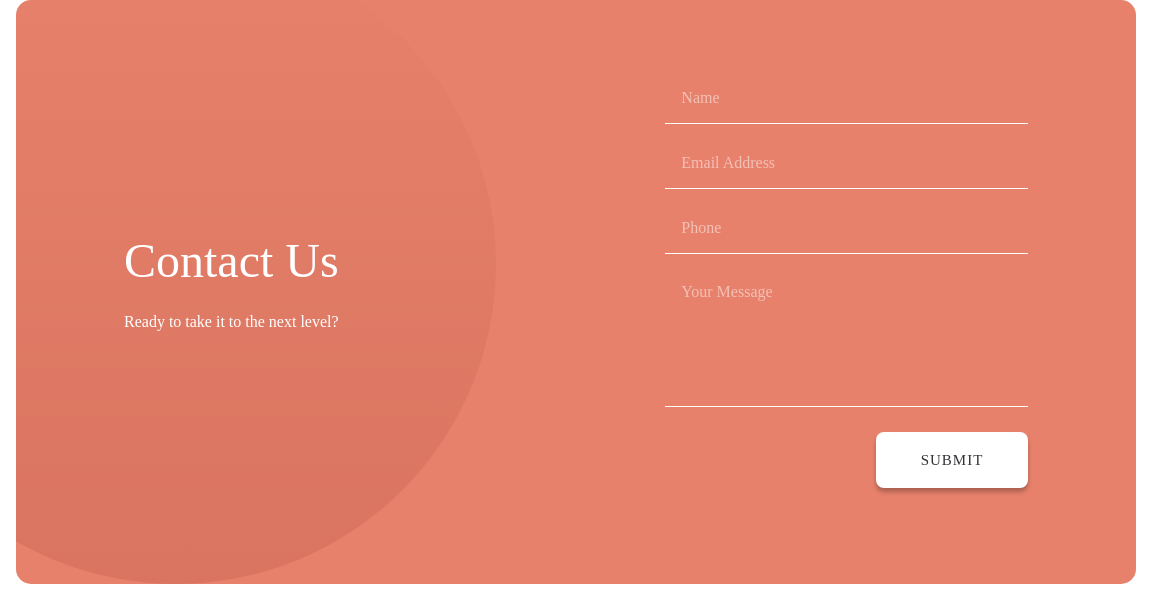
Test: ContactForm › rejects an invalid email address
Type "Ada Lovelace" into the field labelled "Name". click: (847, 104)
box: [665,84,1028,124]
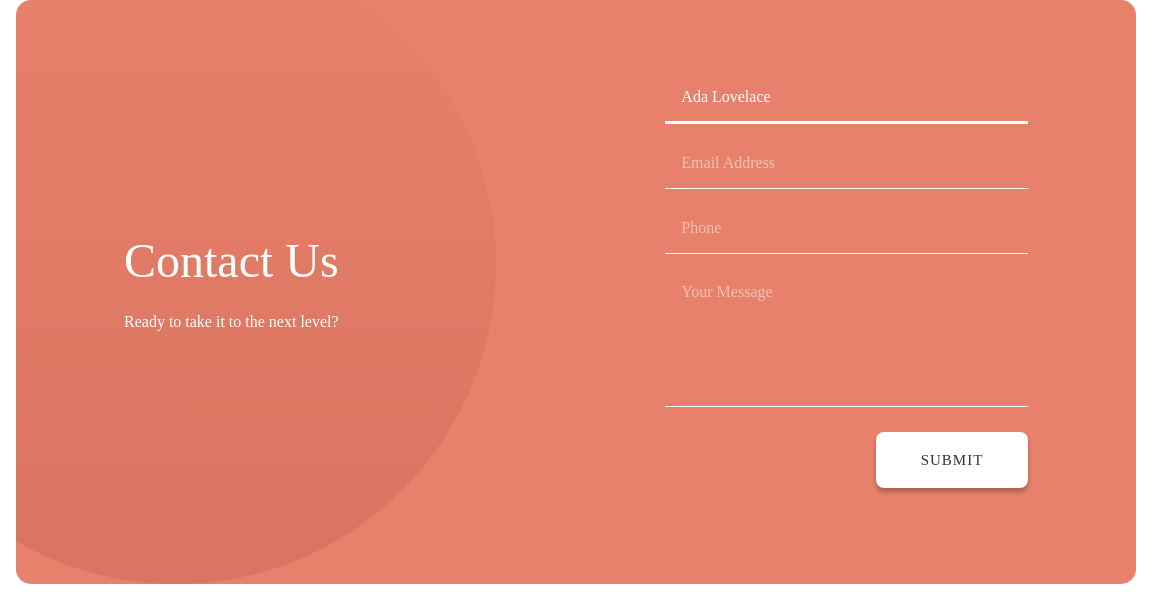
Type "ada@" into the field labelled "Email Address". click: (847, 169)
box: [665,149,1028,189]
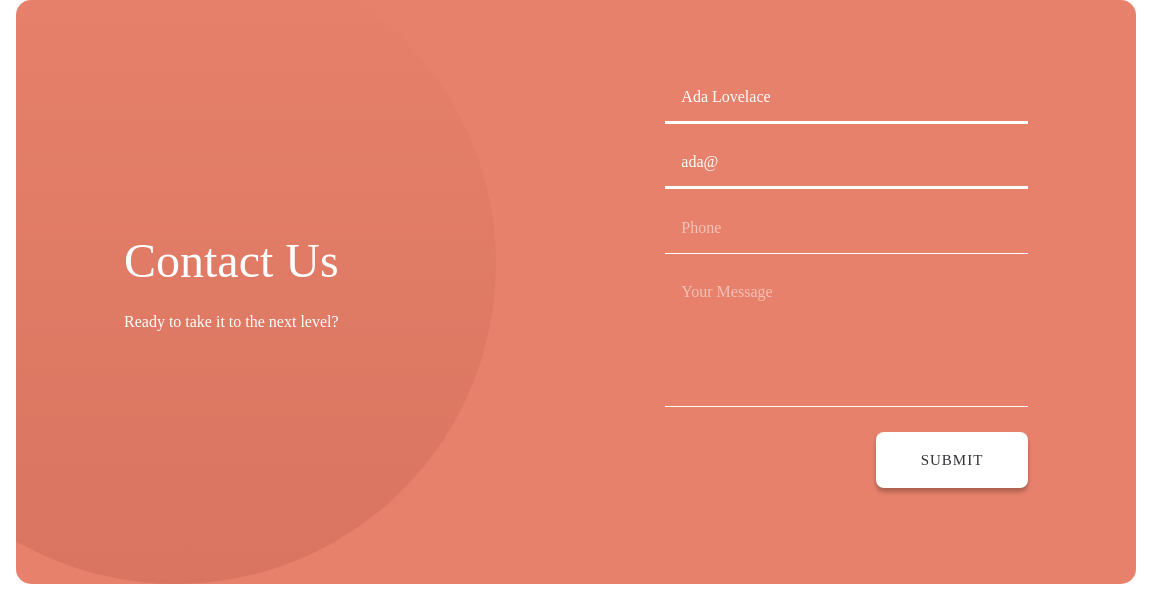
Type "+44 20 7946 0958" into the field labelled "Phone". click: (847, 234)
box: [665,214,1028,254]
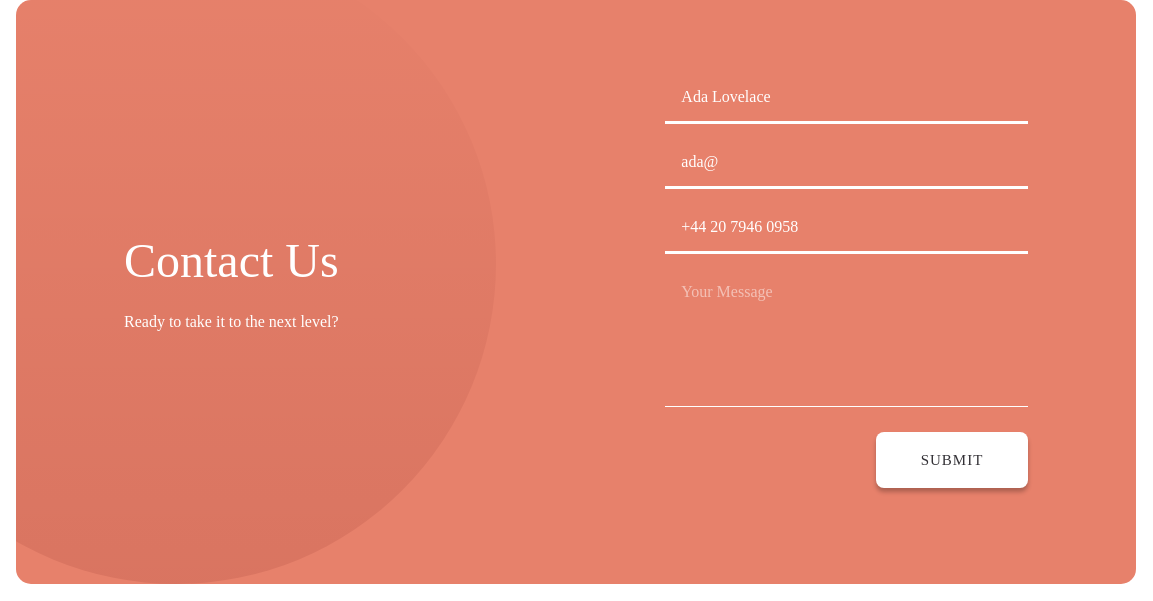
Type "Hello" into the text box labelled "Your Message". click: (847, 343)
box: [665,279,1028,407]
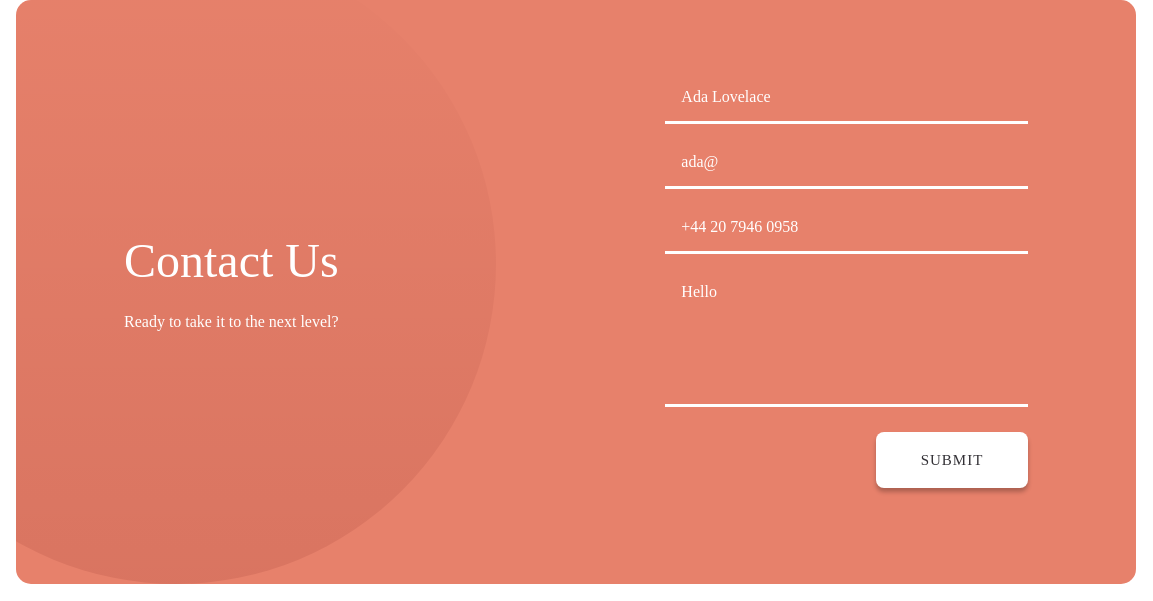
Click the button "submit". click: (952, 460)
box: [876,432,1028,488]
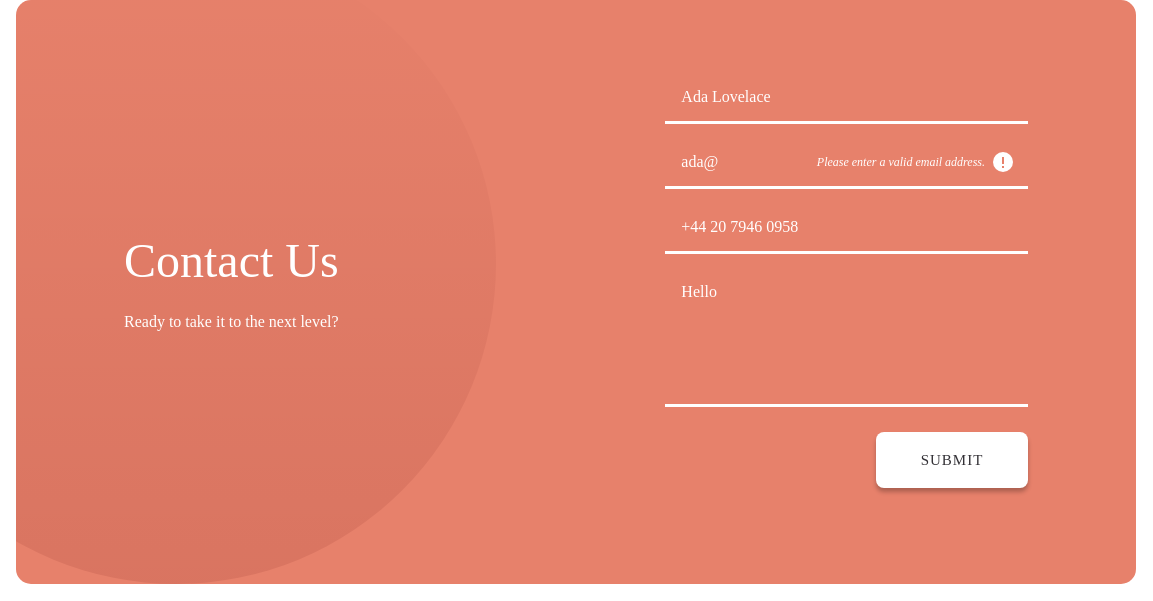
Result: the text "Please enter a valid email address." is shown at [817,155,985,169]
